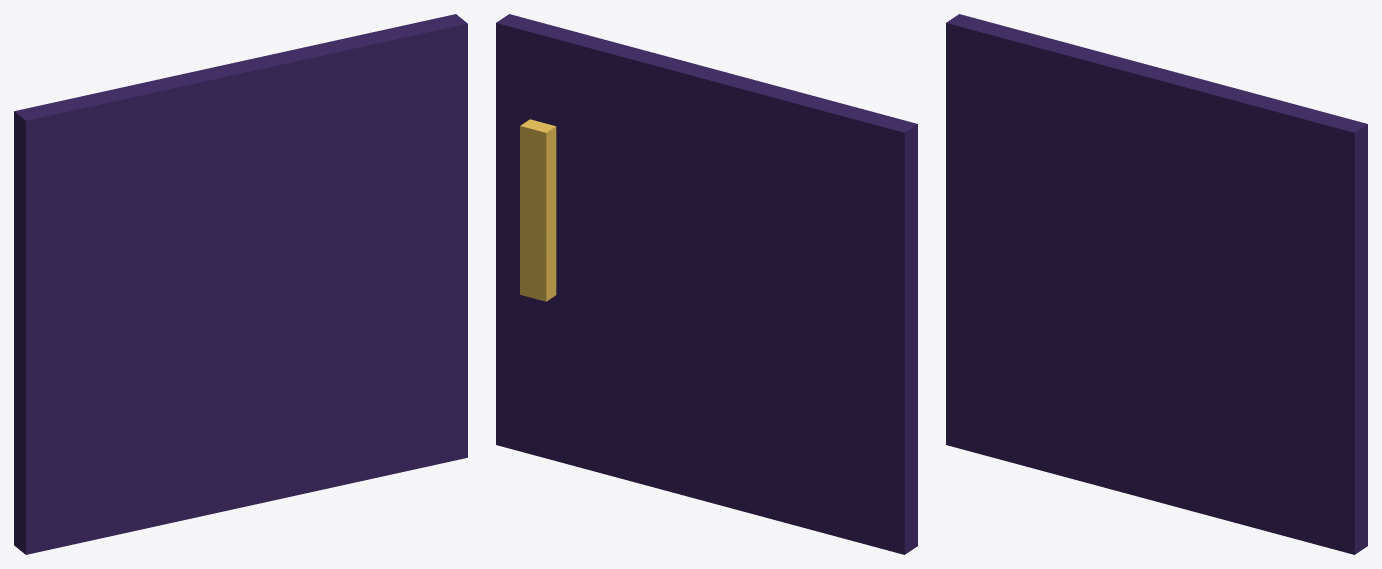
Rendered from porta_escrivaninha_ajustada.gltf.
3 renders of one model, left to right at view 1: azimuth 30°, elevation 25°; view 2: azimuth 150°, elevation 25°; view 3: azimuth 330°, elevation 25°, orthographic. The views are drawn at different scales.
Visible parts, largest first — view 1: portinha; view 2: portinha, puxador; view 3: portinha.
Part boxes in pixels (x1,y1,x2,y2): portinha: [14, 14, 467, 554]; portinha: [496, 14, 917, 554]; puxador: [520, 119, 556, 301]; portinha: [946, 14, 1367, 554].
Bounding box in the file's own units: 0.4881 × 0.4688 × 0.0468.
3 materials, 2 textured.
